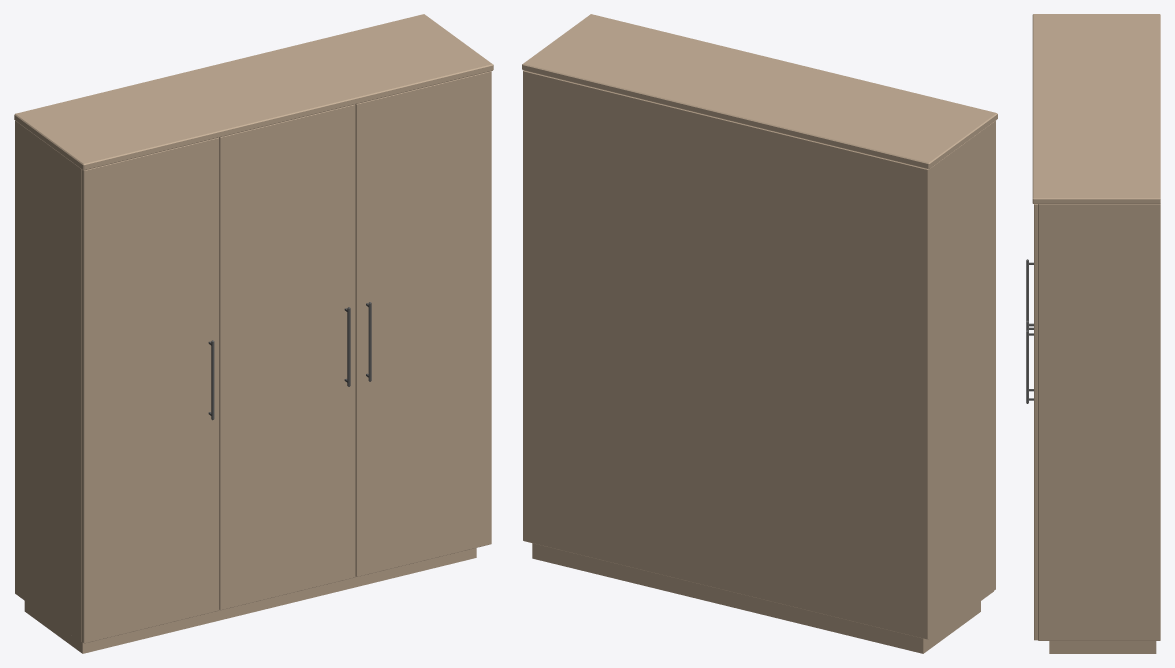
3 views of the same model, side by side, from view 1: azimuth 30°, elevation 25°; view 2: azimuth 150°, elevation 25°; view 3: azimuth 270°, elevation 25° (orthographic). The views are drawn at different scales.
Visible parts, largest first — view 1: cabinet; view 2: cabinet; view 3: cabinet.
Boxes of the visible parts, x1,y1,x2,y2 form: cabinet: (14,14,493,653); cabinet: (522,14,997,653); cabinet: (1026,14,1160,653).
Bounding box in the file's own units: 1.95 × 2.26 × 0.6.
